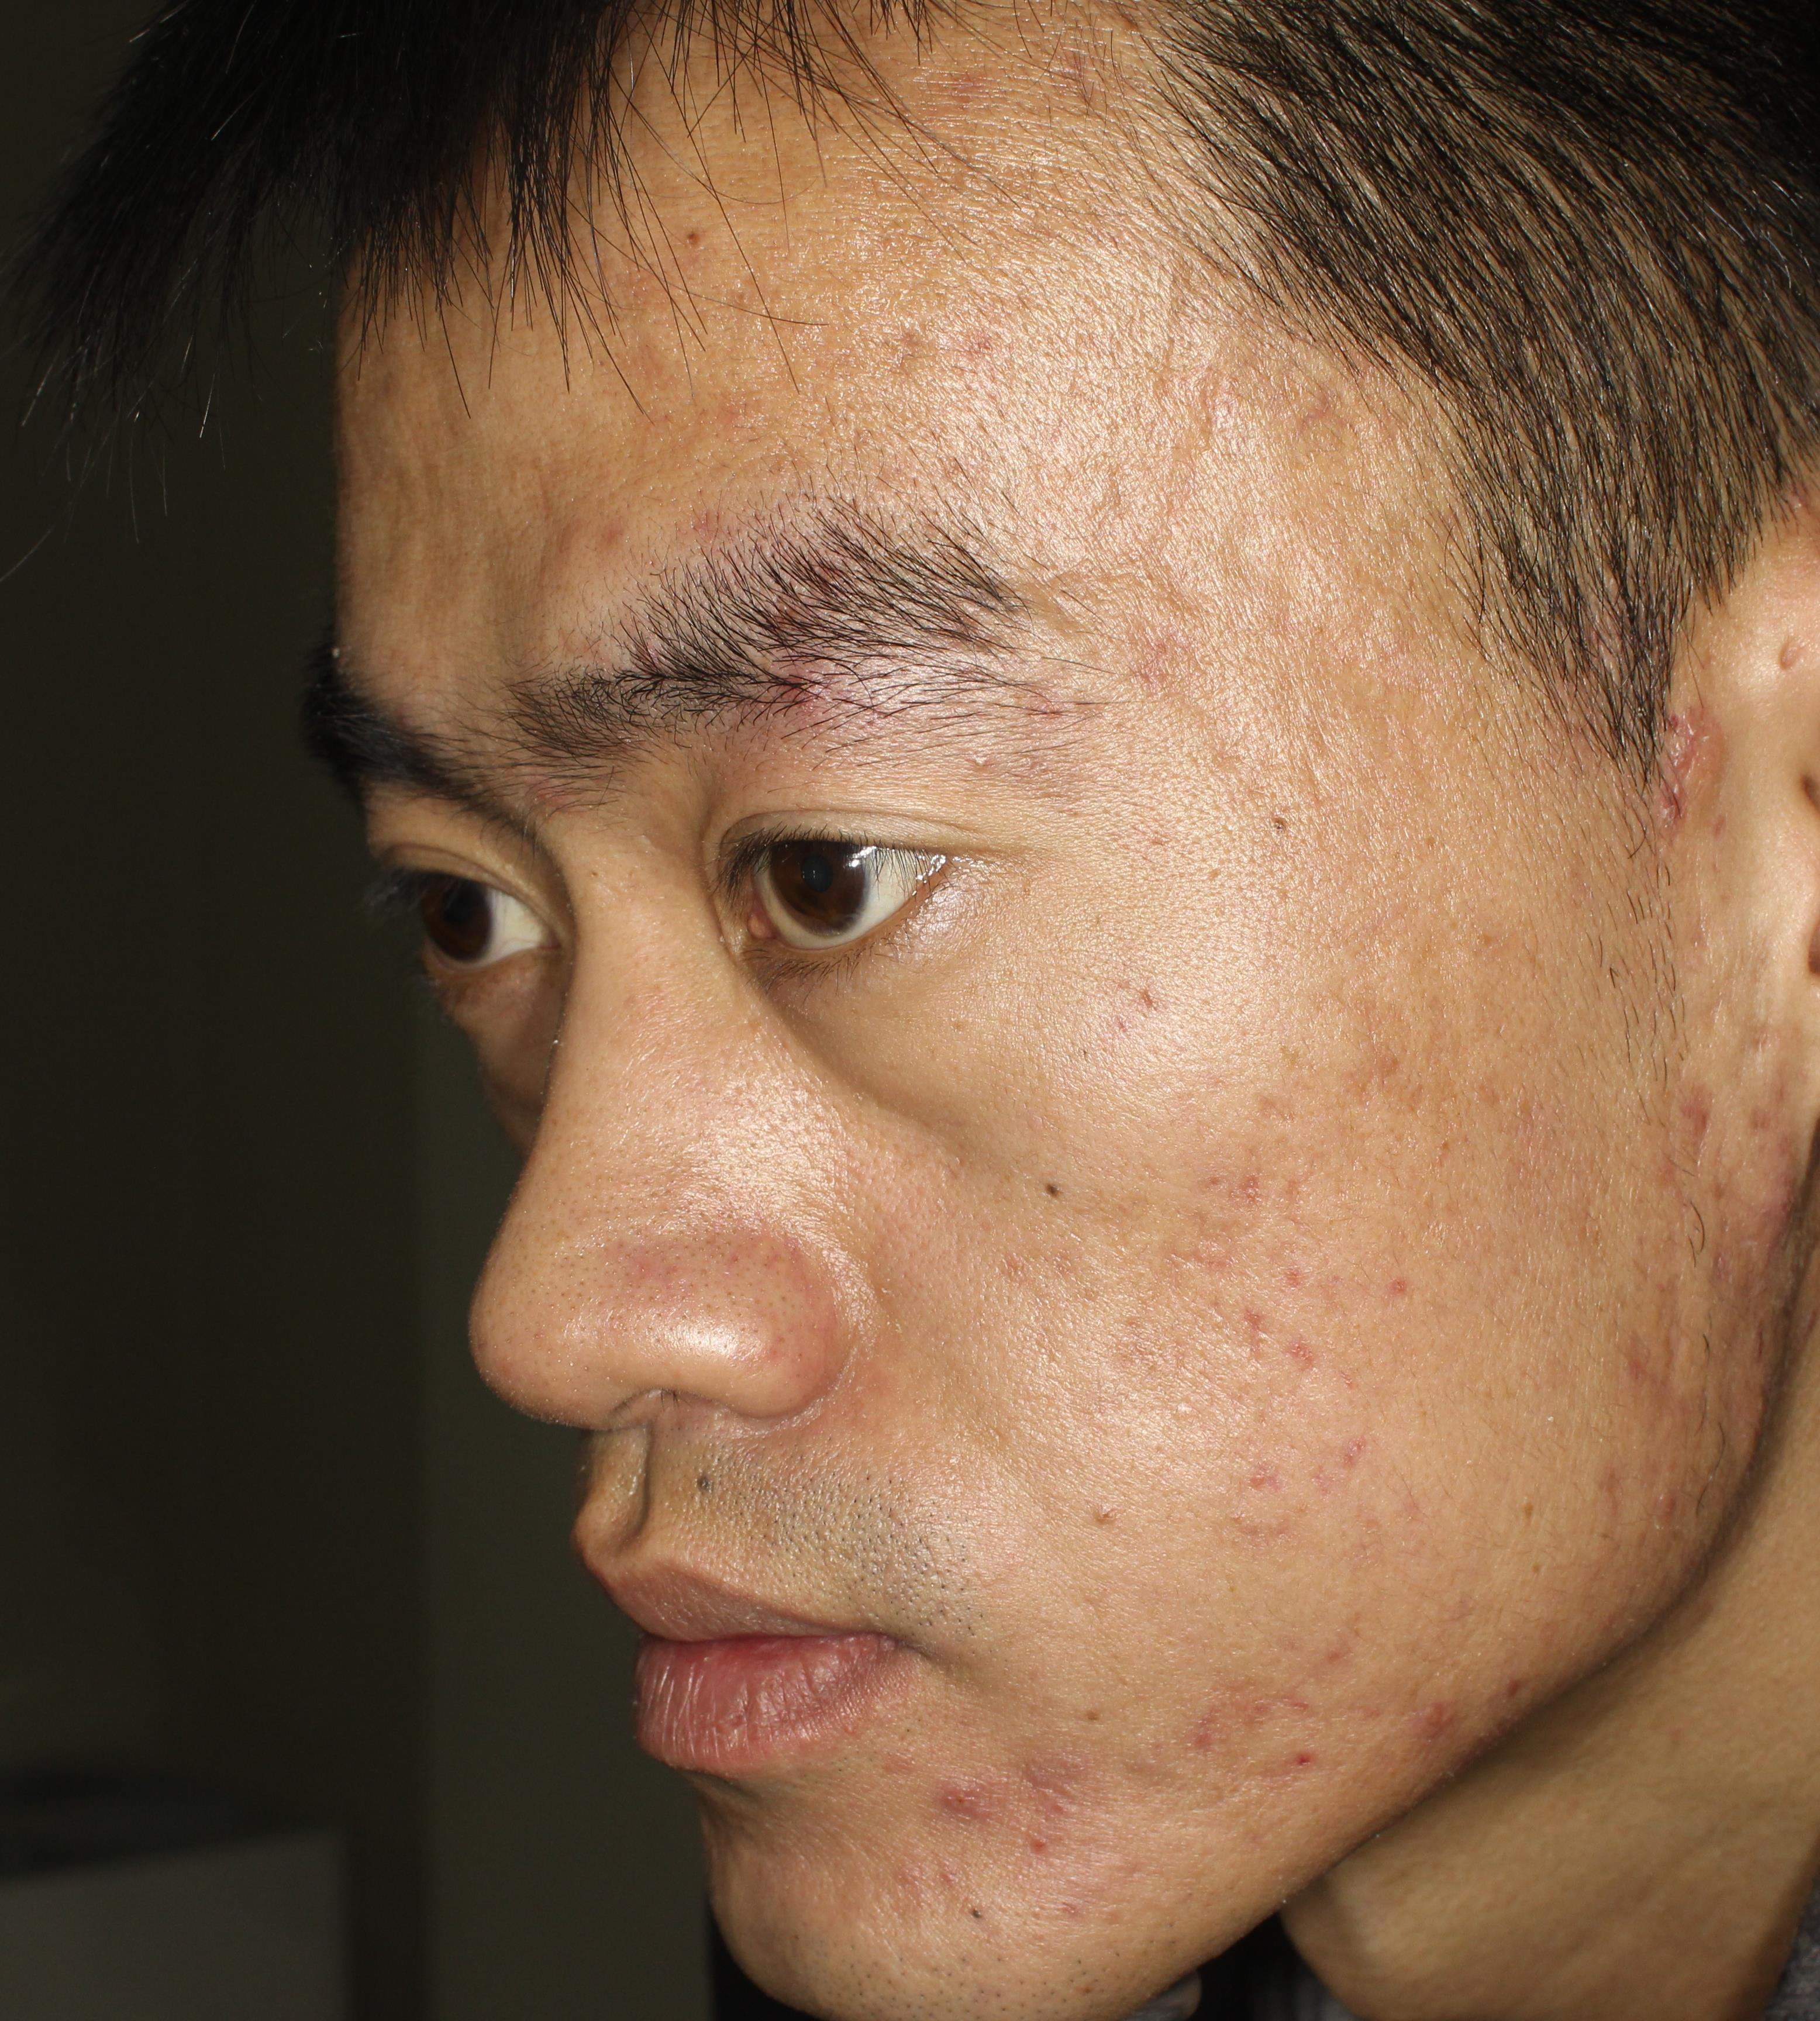fore: (1627, 711, 1727, 818), (548, 474, 652, 576), (1632, 1069, 1730, 1176), (910, 1768, 1001, 1858), (1189, 1679, 1268, 1777), (1588, 1326, 1695, 1396), (1618, 1450, 1718, 1522), (1390, 1684, 1470, 1765), (1274, 1724, 1349, 1805), (991, 1754, 1036, 1835), (687, 385, 754, 437)
